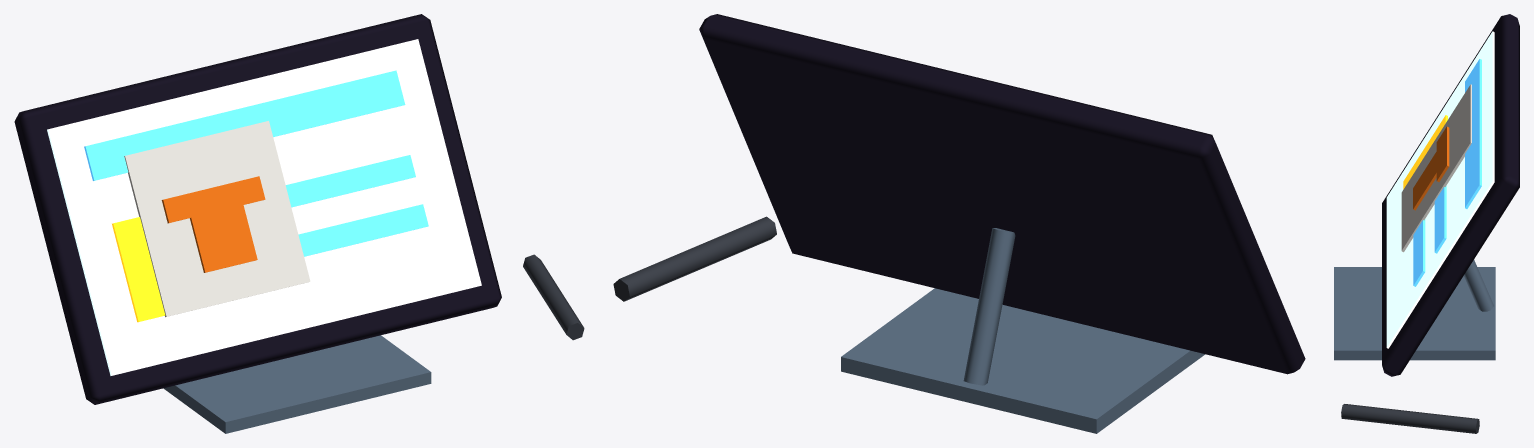
Rendered from station_intake_ausstattung_1_2.glb.
3 views of the same model, side by side, from view 1: azimuth 30°, elevation 25°; view 2: azimuth 150°, elevation 25°; view 3: azimuth 270°, elevation 25° (orthographic). The views are drawn at different scales.
Visible parts, largest first — view 1: station_intake_ausstattung_1_2; view 2: station_intake_ausstattung_1_2; view 3: station_intake_ausstattung_1_2.
Boxes of the visible parts, <box> form: station_intake_ausstattung_1_2: <box>14,14,584,433</box>; station_intake_ausstattung_1_2: <box>613,14,1305,433</box>; station_intake_ausstattung_1_2: <box>1334,14,1519,433</box>.
Size of the model in its own units: 0.5384 by 0.2749 by 0.2068.
